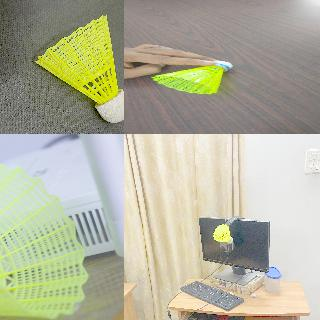shuttlecock: (0, 164, 87, 319), (34, 15, 123, 124), (151, 61, 232, 94), (214, 223, 232, 243)
